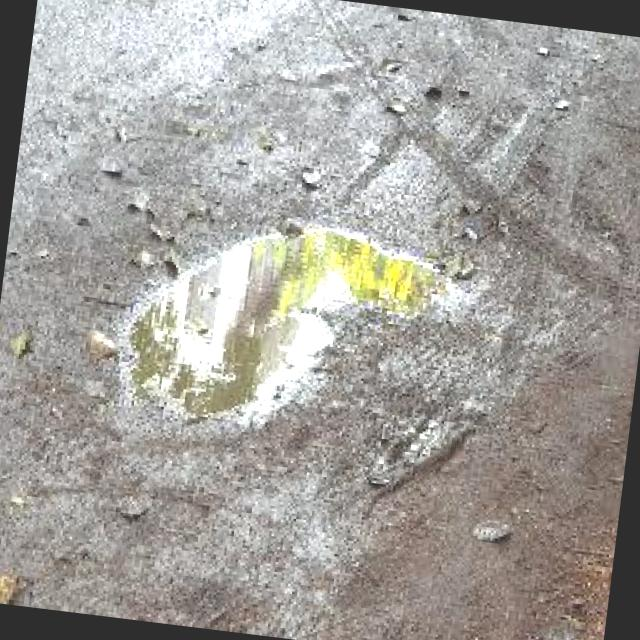waterlogging: (94, 165, 454, 490)
